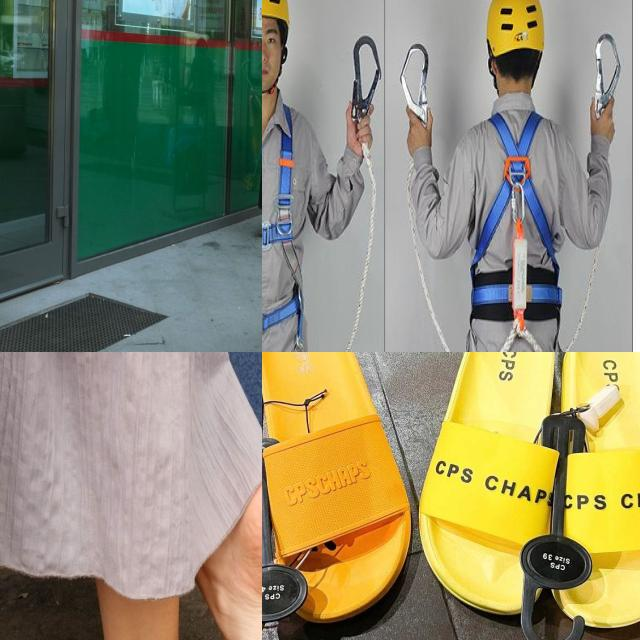Harness: (475, 107, 558, 352), (262, 98, 304, 352), (590, 20, 626, 122), (396, 29, 434, 123), (352, 28, 380, 140)
No_Glasses: (262, 25, 279, 50)
Sandals: (408, 352, 640, 640), (262, 352, 414, 640)
